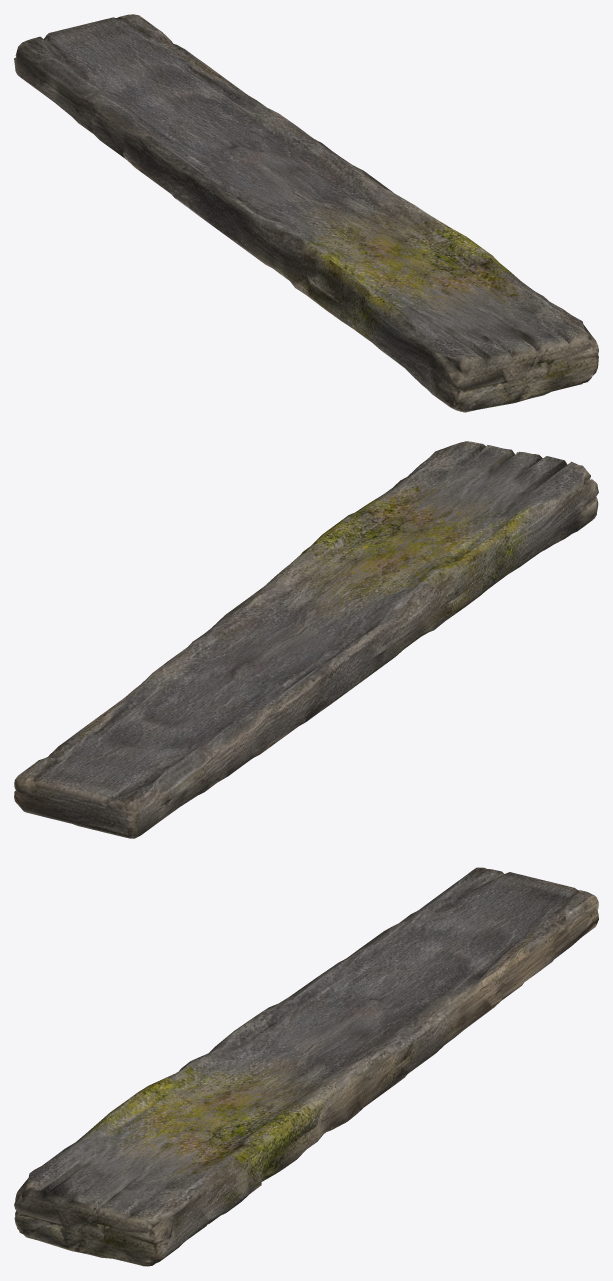
The model's file is kf-beam.glb.
3 renders of one model, top to bottom at view 1: azimuth 30°, elevation 25°; view 2: azimuth 150°, elevation 25°; view 3: azimuth 330°, elevation 25°, orthographic.
Visible parts, largest first — view 1: Supplied kf-beam; view 2: Supplied kf-beam; view 3: Supplied kf-beam.
Part boxes in pixels (box(x1,y1,x2,y2)): Supplied kf-beam: box(14, 14, 598, 412); Supplied kf-beam: box(14, 441, 598, 838); Supplied kf-beam: box(14, 867, 598, 1266).
Size of the model in its own units: 0.1907 by 0.0691 by 1.
Materials: 1 (1 with a texture image).
